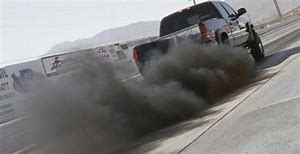smoke: (13, 39, 256, 154)
